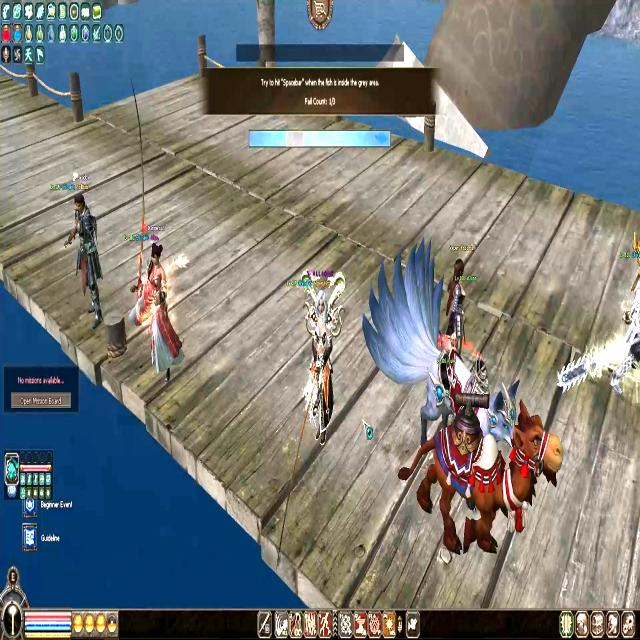fishes: (374, 131, 387, 146)
